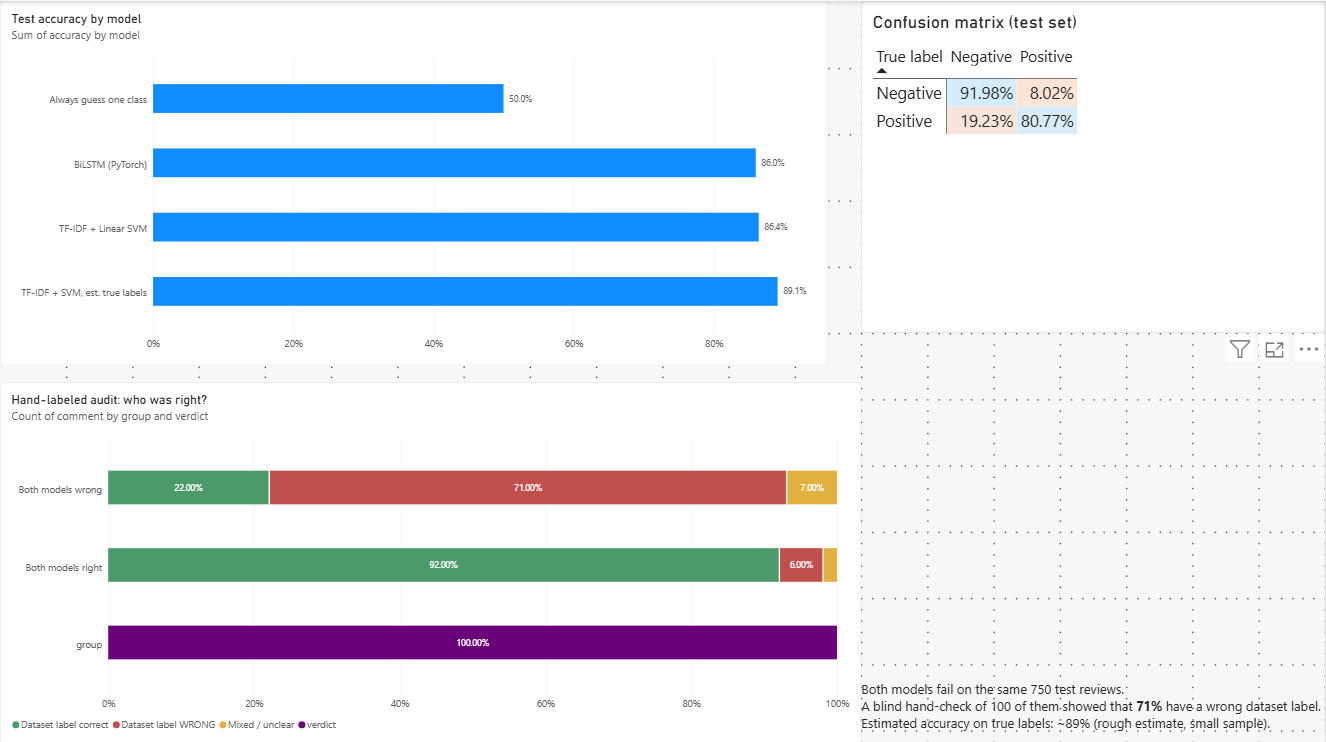

The dashboard page shown, as its layout file describes it:
{"tool":"powerbi","page":{"name":"Model & data quality","canvas":[1920,1080],"ordinal":2},"visuals":[{"type":"clusteredBarChart","title":"Test accuracy by model","fields":{"Category":["model_results.model"],"Y":["Sum(model_results.accuracy)"]},"box":[0,0,1200,528],"z":0},{"type":"pivotTable","title":"Confusion matrix (test set)","fields":{"Columns":["reviews.predicted_name"],"Rows":["reviews.sentiment_name"],"Values":["CountNonNull(reviews.review_id)"]},"box":[1248,0,672,480],"z":1000},{"type":"hundredPercentStackedBarChart","title":"Hand-labeled audit: who was right?","fields":{"Category":["audit.group"],"Series":["audit.verdict"],"Y":["CountNonNull(audit.comment)"]},"box":[0,552,1248,528],"z":2000},{"type":"textbox","box":[1248,984,672,96],"z":3000}]}

Visuals, with their boxes in screenshot pixels (x1, y1, x2, y2), scaled from the page's 1920x1080 canvas onto the 1326x742 screenshot:
"Test accuracy by model" clusteredBarChart: rect(0, 0, 829, 363)
"Confusion matrix (test set)" pivotTable: rect(862, 0, 1325, 330)
"Hand-labeled audit: who was right?" hundredPercentStackedBarChart: rect(0, 379, 862, 741)
textbox: rect(862, 676, 1325, 741)
